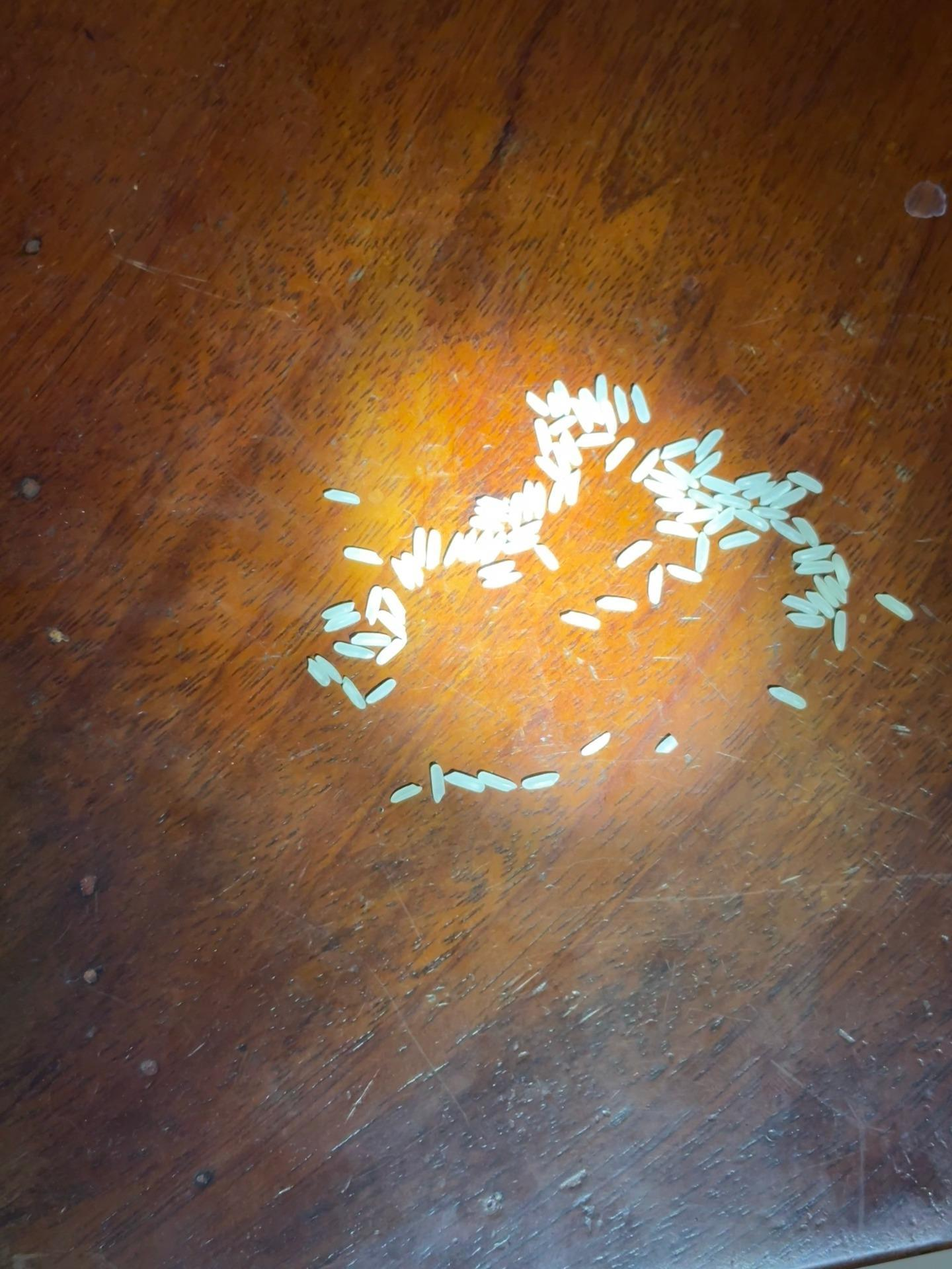Rice-th-y-nh: (631, 448, 661, 484), (615, 540, 653, 568), (604, 438, 635, 472), (579, 388, 606, 427), (694, 429, 724, 464), (875, 594, 914, 620), (663, 459, 696, 488), (770, 519, 805, 546), (382, 588, 406, 627), (445, 771, 485, 794), (649, 468, 687, 491), (377, 610, 407, 639), (704, 507, 735, 535), (792, 516, 820, 547), (690, 452, 722, 479), (559, 430, 583, 466), (480, 533, 507, 565), (477, 771, 516, 793), (769, 686, 806, 709), (770, 487, 807, 510), (376, 637, 406, 665), (561, 610, 601, 631), (643, 478, 683, 499), (734, 509, 770, 532), (504, 533, 540, 556), (759, 481, 792, 506), (655, 495, 696, 515), (806, 590, 834, 619), (813, 576, 839, 607), (787, 471, 822, 494), (483, 571, 523, 591), (342, 677, 366, 710), (315, 655, 342, 684), (688, 488, 722, 511), (571, 399, 594, 433), (401, 552, 424, 586), (366, 679, 396, 705), (719, 530, 758, 550), (794, 544, 835, 563), (656, 520, 697, 539), (661, 438, 698, 459), (563, 469, 584, 506), (535, 456, 566, 481), (507, 520, 542, 542), (391, 558, 415, 590), (631, 385, 651, 423), (443, 532, 464, 568), (324, 612, 361, 632), (752, 502, 789, 522), (334, 642, 375, 660), (783, 595, 818, 616), (701, 475, 737, 495), (506, 493, 526, 529), (478, 560, 515, 579), (534, 419, 553, 456), (522, 772, 559, 791), (533, 544, 559, 571), (344, 547, 383, 565), (667, 564, 702, 584), (831, 555, 851, 590), (581, 733, 611, 756), (824, 575, 848, 603), (715, 493, 752, 511), (678, 507, 717, 524), (647, 565, 664, 604), (425, 530, 442, 569), (429, 764, 446, 803), (547, 481, 567, 514), (596, 596, 637, 612), (735, 472, 771, 490), (694, 533, 710, 573), (552, 443, 572, 475), (613, 386, 630, 423), (787, 612, 824, 629), (576, 431, 613, 448), (476, 495, 509, 514), (458, 529, 477, 562), (307, 659, 330, 686), (366, 586, 382, 624), (390, 784, 422, 803), (796, 559, 834, 575), (526, 392, 550, 417), (351, 632, 391, 647), (833, 612, 848, 651), (412, 527, 427, 566), (553, 381, 570, 415), (549, 415, 576, 436), (321, 602, 354, 619), (600, 401, 617, 434), (532, 483, 547, 520), (324, 489, 360, 504), (743, 481, 770, 501), (546, 392, 566, 417), (469, 516, 500, 531), (474, 506, 503, 521), (655, 736, 677, 753), (595, 375, 607, 402)
